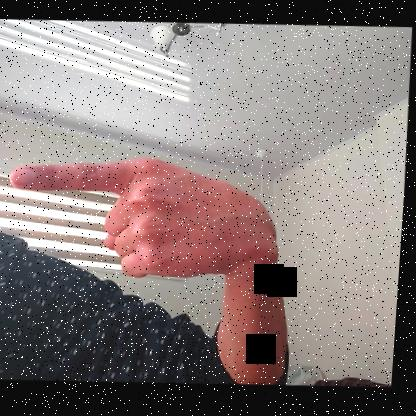G: (11, 148, 291, 283)
